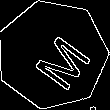M_NW: (18, 21, 87, 88)
